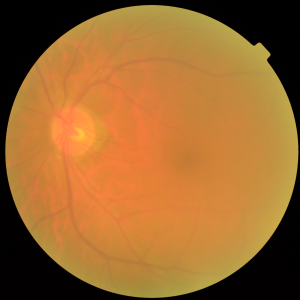cataract: (37, 82, 232, 206)
